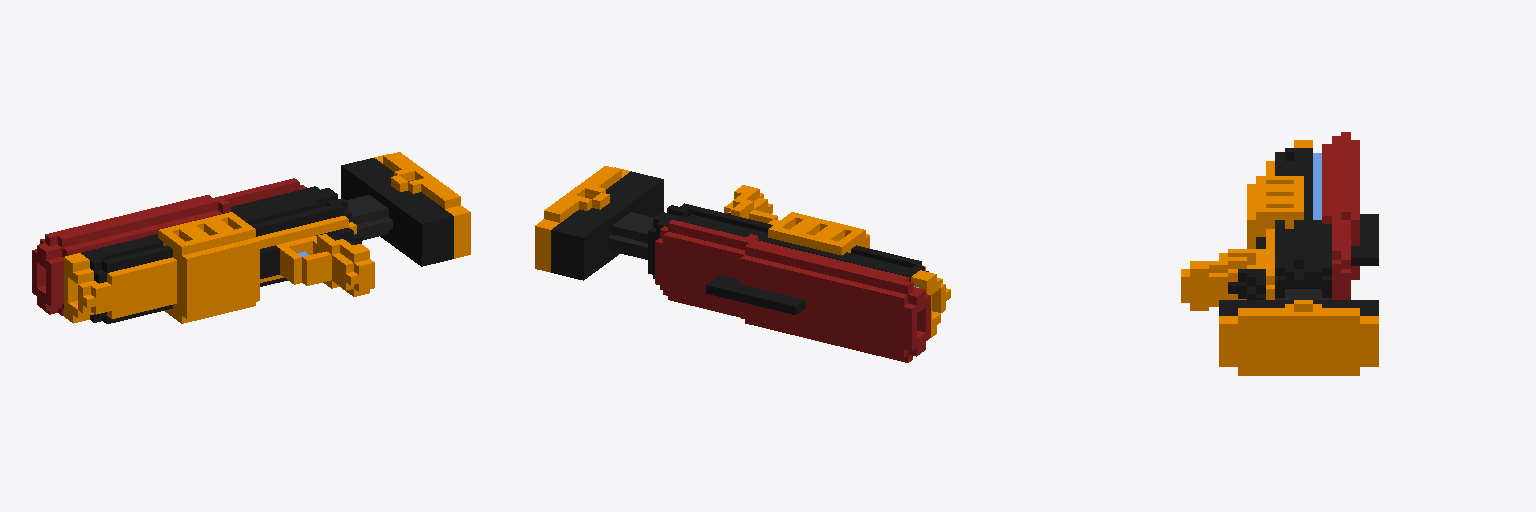
3 renders of one model, left to right at view 1: azimuth 30°, elevation 25°; view 2: azimuth 150°, elevation 25°; view 3: azimuth 270°, elevation 25°, orthographic.
Parts seen in each view (by area): view 1: object 1; view 2: object 1; view 3: object 1.
Part boxes in pixels (left/top/right/bottom): object 1: left=32, top=152, right=470, bottom=323; object 1: left=535, top=166, right=950, bottom=362; object 1: left=1181, top=132, right=1378, bottom=375.
Size of the model in its own units: 4.5 by 0.9 by 2.1.
Materials: 1 (1 with a texture image).